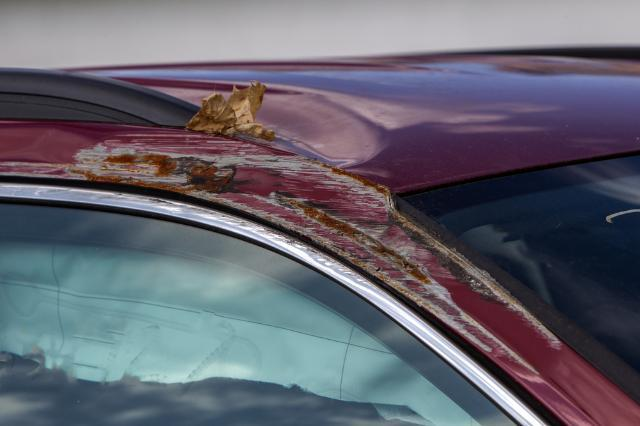dent: (255, 94, 381, 168)
scratch: (0, 124, 566, 379)
